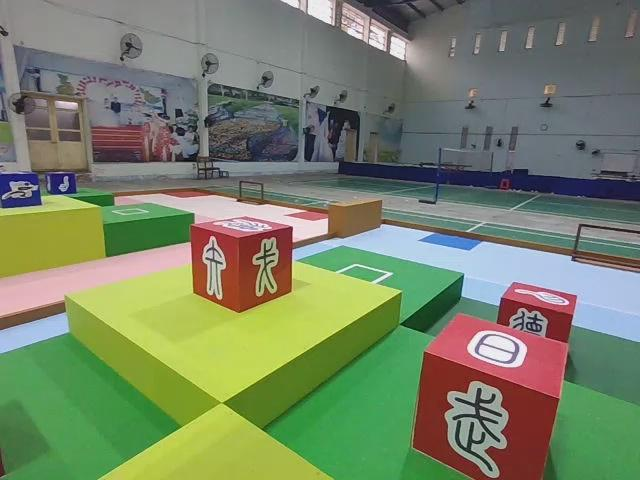R2 Fake: (411, 311, 569, 480), (190, 216, 293, 313), (497, 279, 578, 364)
